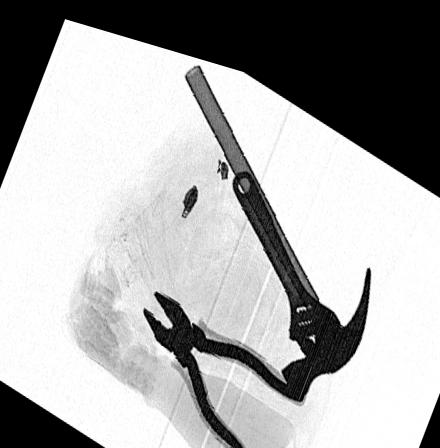Hammer: (184, 47, 374, 382)
Pliers: (143, 279, 309, 448)
Wrench: (233, 157, 350, 340)
